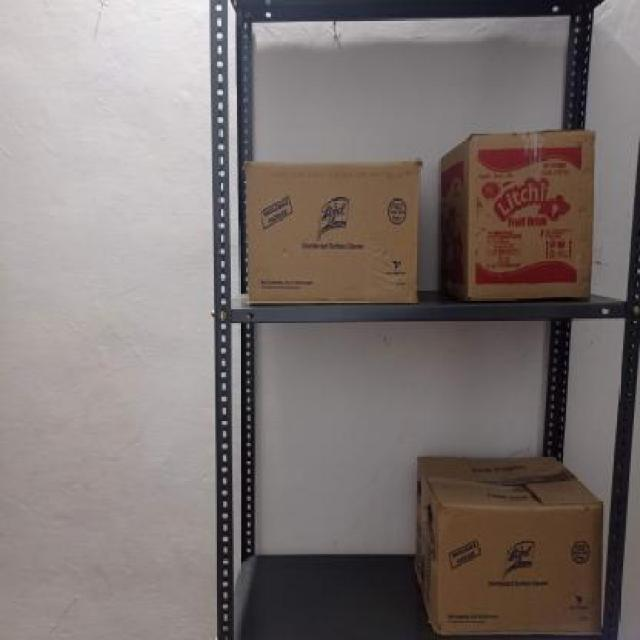box: (248, 154, 422, 308), (432, 504, 606, 636), (463, 132, 597, 300)
